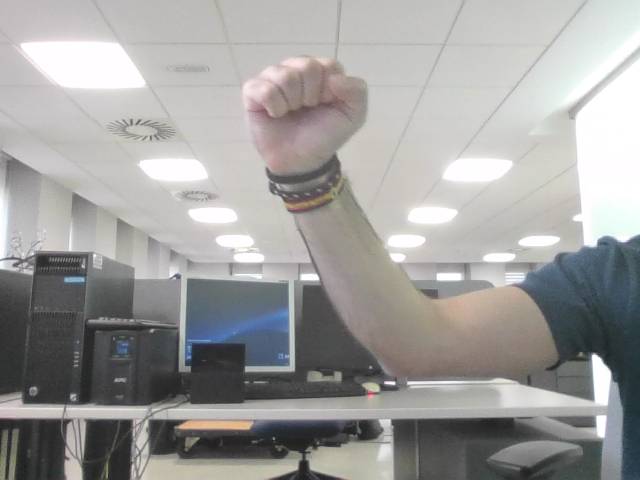Puño: (257, 66, 352, 144)
